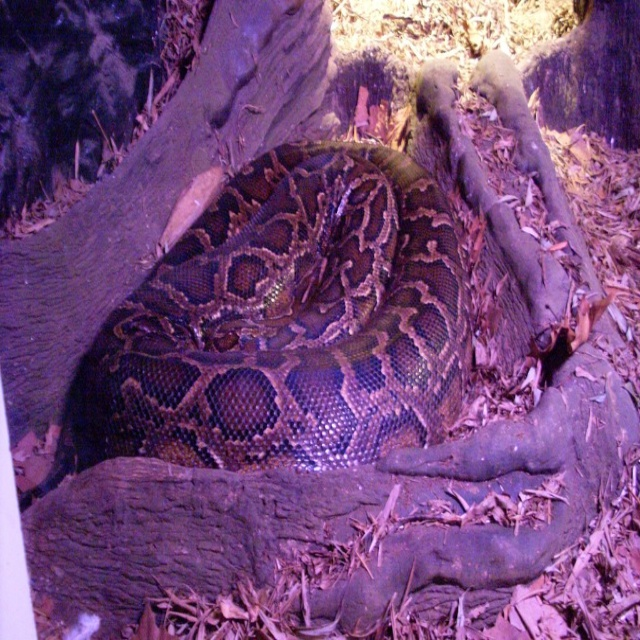Snake: (68, 140, 476, 459)
